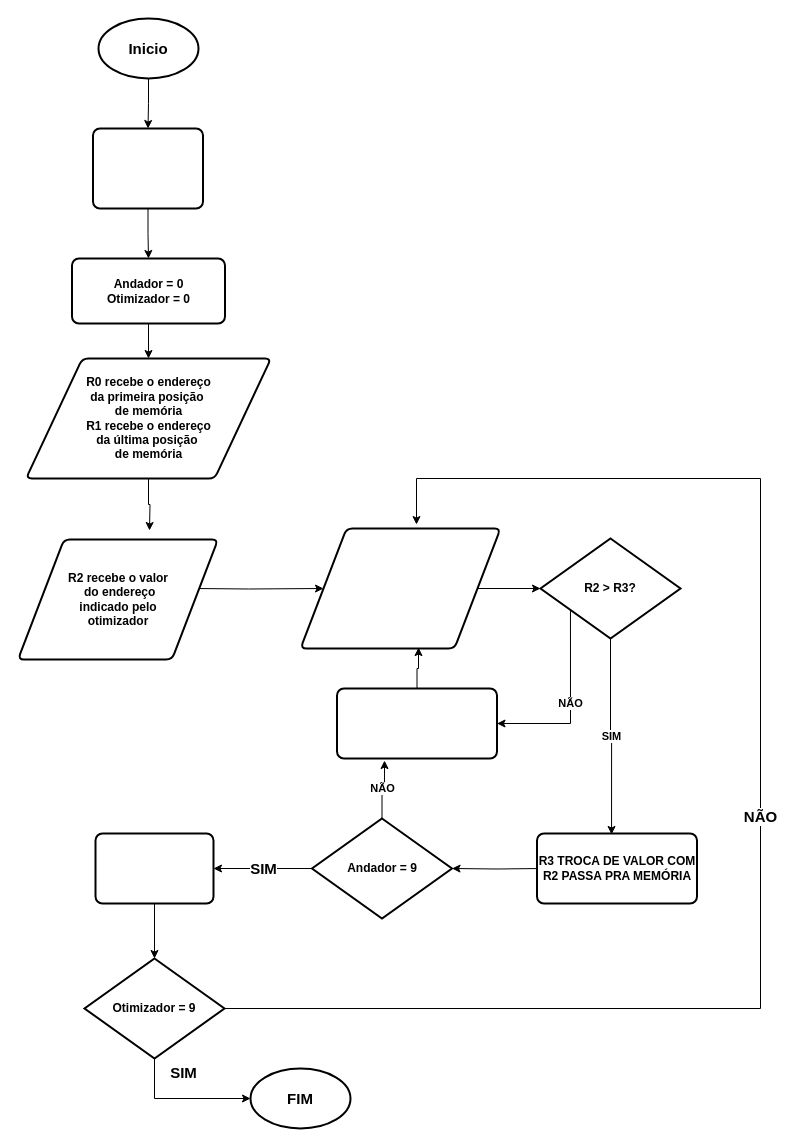
This 794x1146 diagram has some shape labels left out. Each missing label, with the centre of its shape:
"Aloca vetor de 10 posições na RAM" goes at point (148, 168).
"ANDADOR + 1" goes at point (417, 723).
"Otimizador + 1" goes at point (154, 868).
"R3 recebe o valor indicador pelo andador" goes at point (400, 588).
